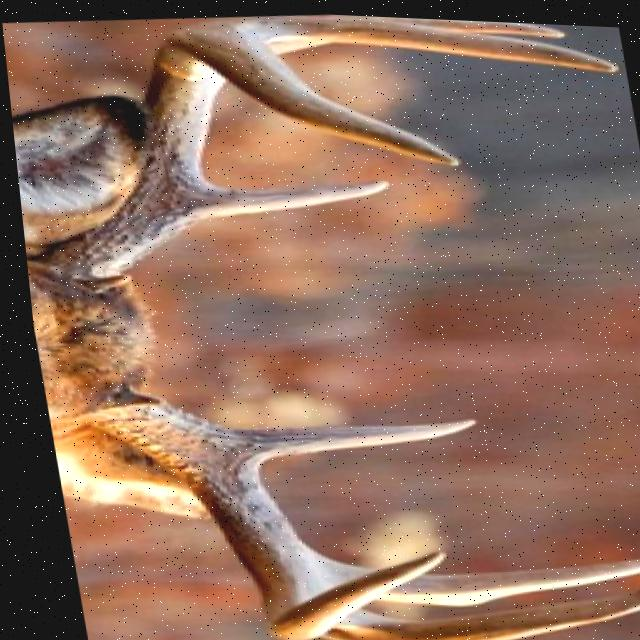L-F: (23, 17, 455, 289)
L-G1: (190, 174, 389, 217)
L-G3: (234, 11, 617, 66)
R-F: (63, 383, 434, 638)
R-G1: (223, 412, 469, 460)
